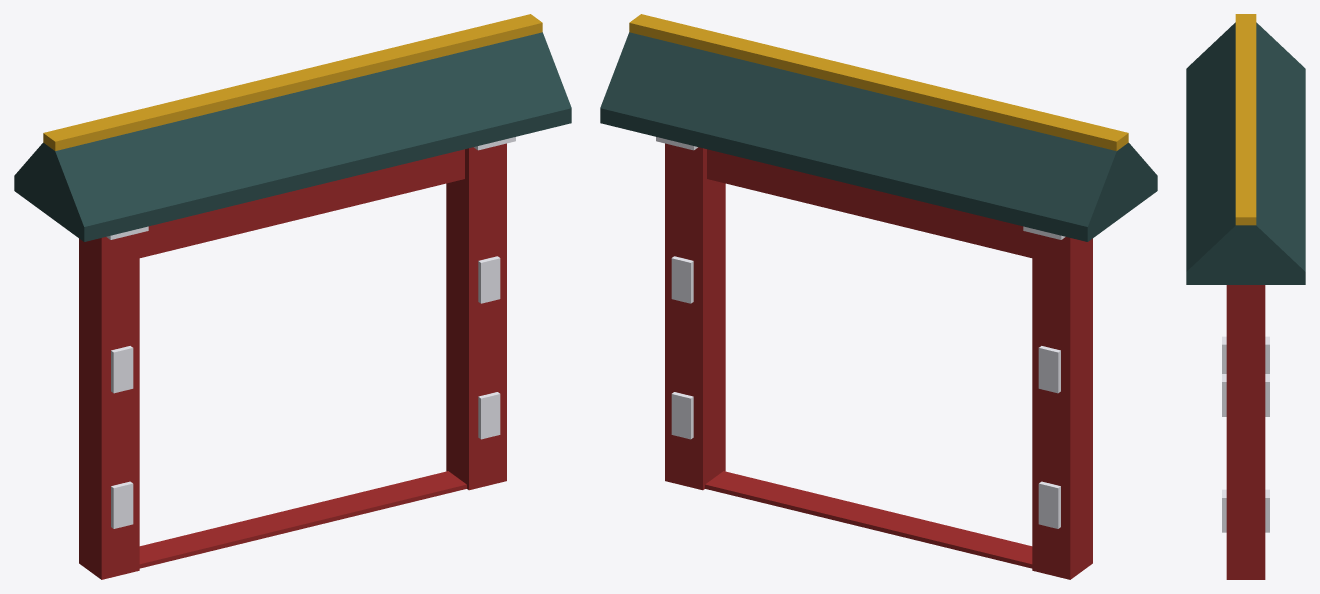
The model's file is Asian_Prop_Building_Fence_Wall_Gateway_03.FBX.
3 views of the same model, side by side, from view 1: azimuth 30°, elevation 25°; view 2: azimuth 150°, elevation 25°; view 3: azimuth 270°, elevation 25° (orthographic). The views are drawn at different scales.
Parts seen in each view (by area): view 1: Asian_Prop_Building_Fence_Wall_Gateway_03; view 2: Asian_Prop_Building_Fence_Wall_Gateway_03; view 3: Asian_Prop_Building_Fence_Wall_Gateway_03.
Boxes of the visible parts, x1=… form: Asian_Prop_Building_Fence_Wall_Gateway_03: x1=14, y1=14, x2=571, y2=579; Asian_Prop_Building_Fence_Wall_Gateway_03: x1=600, y1=14, x2=1157, y2=579; Asian_Prop_Building_Fence_Wall_Gateway_03: x1=1186, y1=14, x2=1305, y2=579.
Size of the model in its own units: 6215 by 5413 by 1546.
